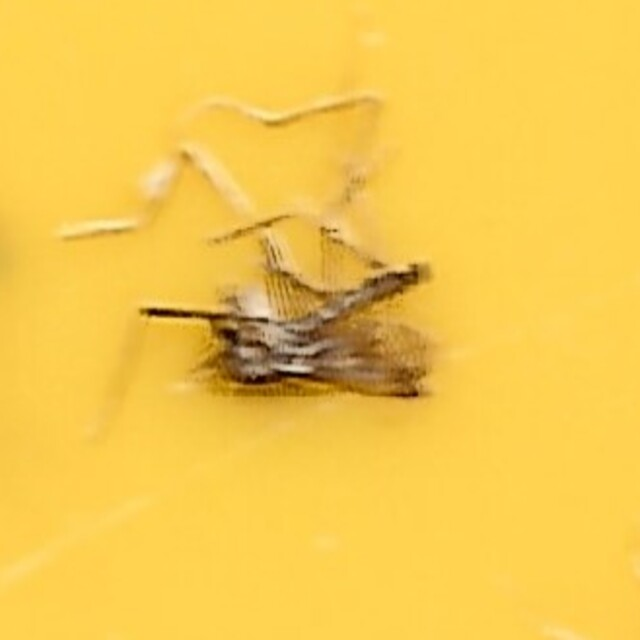Nematocera: (195, 232, 445, 408)
